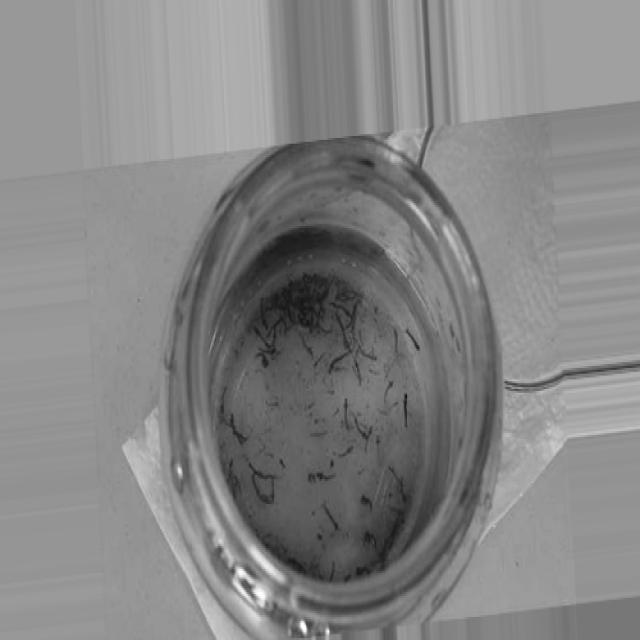larvas: (389, 468, 408, 502), (247, 462, 280, 479), (318, 275, 338, 302), (230, 415, 246, 446), (328, 353, 349, 376), (283, 554, 307, 574), (338, 315, 350, 350), (263, 479, 277, 508), (358, 341, 378, 361), (256, 328, 277, 347), (251, 473, 263, 504), (322, 507, 338, 529), (272, 316, 288, 336), (258, 297, 268, 327), (404, 328, 418, 349), (218, 387, 228, 415), (351, 301, 360, 332), (333, 444, 352, 458), (355, 413, 366, 437), (403, 390, 410, 425), (285, 302, 295, 326), (304, 304, 321, 318), (318, 322, 334, 336), (364, 530, 377, 547), (332, 304, 350, 316), (343, 394, 349, 429), (256, 350, 269, 366), (264, 395, 280, 408), (312, 427, 329, 439), (300, 336, 312, 353), (299, 314, 311, 331), (356, 567, 370, 581), (366, 425, 373, 452), (394, 324, 400, 355), (375, 431, 381, 462), (316, 472, 334, 482), (329, 559, 336, 584), (354, 359, 361, 384), (314, 352, 324, 368), (260, 348, 280, 356), (226, 458, 232, 484), (385, 382, 393, 401), (232, 475, 240, 494), (362, 495, 373, 508), (332, 407, 339, 418)
